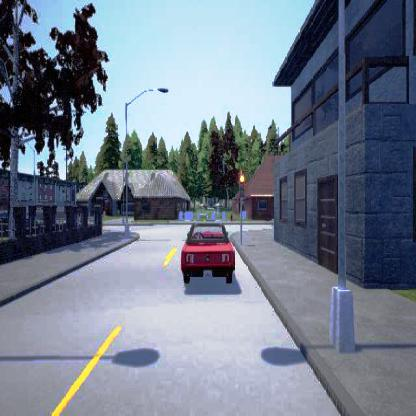vehicle: (180, 223, 234, 282)
